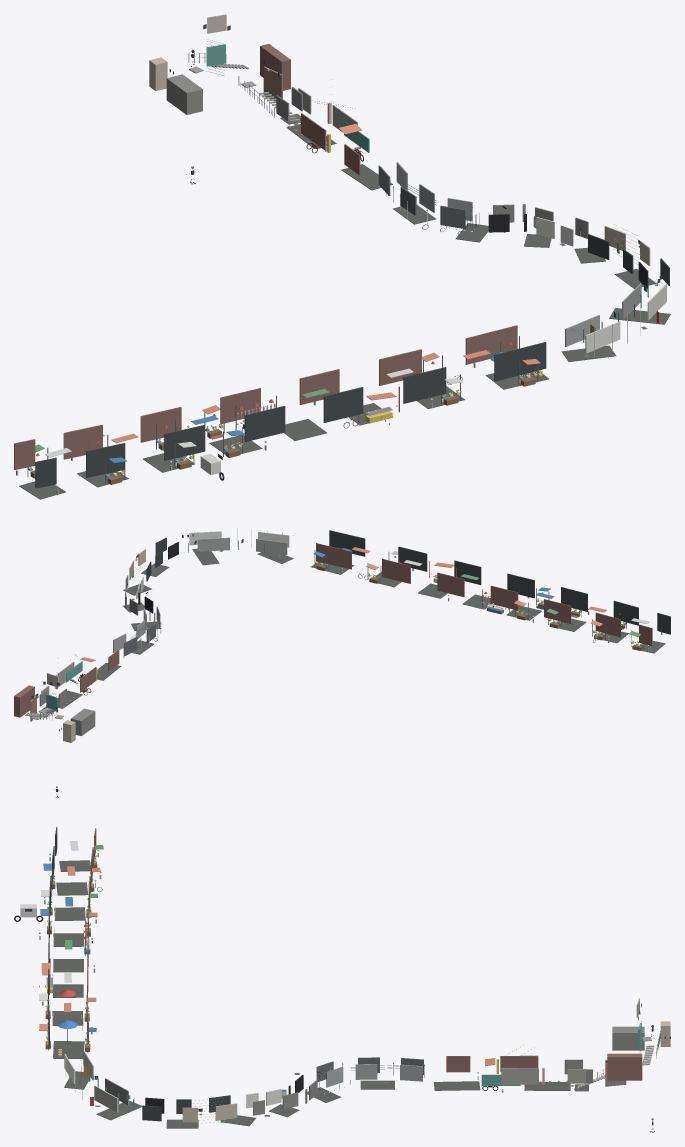
3 views of the same model, one above another, from view 1: azimuth 30°, elevation 25°; view 2: azimuth 150°, elevation 25°; view 3: azimuth 270°, elevation 25° (orthographic). The views are drawn at different scales.
Parts seen in each view (by area): view 1: S03_backwall_R_26.3, S03_backwall_L_26.3, S03_backwall_R_29.3, S01_building_backL, S03_backwall_R_35.3, S03_backwall_R_32.3, S03_backwall_R_38.3, S03_backwall_L_38.3, S03_backwall_R_41.3, S03_backwall_L_29.3, S03_backwall_L_35.3, S03_backwall_L_41.3 (+2 smaller); view 2: S03_backwall_L_26.3, S03_backwall_R_26.3, S03_backwall_L_29.3, S03_backwall_L_35.3, S03_backwall_L_32.3, S03_backwall_R_35.3, S03_backwall_L_38.3, S03_backwall_R_29.3, S03_backwall_R_38.3, S01_building_backL, S01_building_mass, S03_backwall_L_41.3 (+4 smaller); view 3: S01_building_mass, S01_building_backL, S02_wB_R_5.6, S03_ground_26.2, S02_wB_L_5.6.
Boxes of the visible parts, box(x1,y1,x2,y2) form: S03_backwall_R_26.3: box(494, 342, 546, 381); S03_backwall_L_26.3: box(465, 325, 517, 364); S03_backwall_R_29.3: box(403, 367, 446, 403); S01_building_backL: box(166, 74, 202, 114); S03_backwall_R_35.3: box(244, 406, 285, 441); S03_backwall_R_32.3: box(323, 387, 363, 422); S03_backwall_R_38.3: box(164, 425, 205, 460); S03_backwall_L_38.3: box(140, 407, 181, 442); S03_backwall_R_41.3: box(86, 443, 125, 477); S03_backwall_L_29.3: box(379, 349, 421, 385); S03_backwall_L_35.3: box(220, 388, 260, 424); S03_backwall_L_41.3: box(63, 424, 102, 459); S03_backwall_L_26.3: box(316, 543, 351, 569); S03_backwall_R_26.3: box(329, 530, 365, 556); S03_backwall_L_29.3: box(382, 558, 410, 583); S03_backwall_L_35.3: box(490, 585, 518, 610); S03_backwall_L_32.3: box(437, 572, 464, 596); S03_backwall_R_35.3: box(507, 573, 534, 598); S03_backwall_L_38.3: box(544, 599, 571, 623); S03_backwall_R_29.3: box(398, 546, 427, 571); S03_backwall_R_38.3: box(561, 587, 587, 611); S01_building_backL: box(70, 708, 95, 735); S01_building_mass: box(14, 685, 34, 717); S03_backwall_L_41.3: box(595, 612, 620, 637); S01_building_mass: box(607, 1053, 642, 1080); S01_building_backL: box(612, 1026, 644, 1050); S02_wB_R_5.6: box(501, 1068, 538, 1084); S03_ground_26.2: box(53, 1041, 84, 1059); S02_wB_L_5.6: box(500, 1055, 538, 1071).
Bounding box in the file's own units: 69.24 × 16.23 × 70.76.
